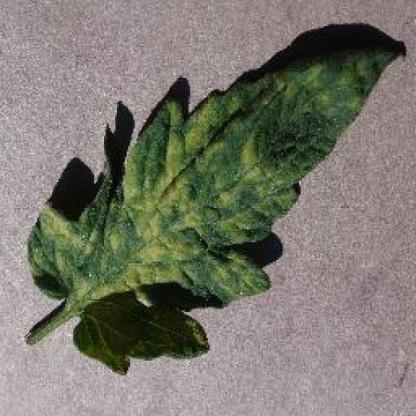Tomato_Leaf_Mold: (31, 49, 395, 368)
